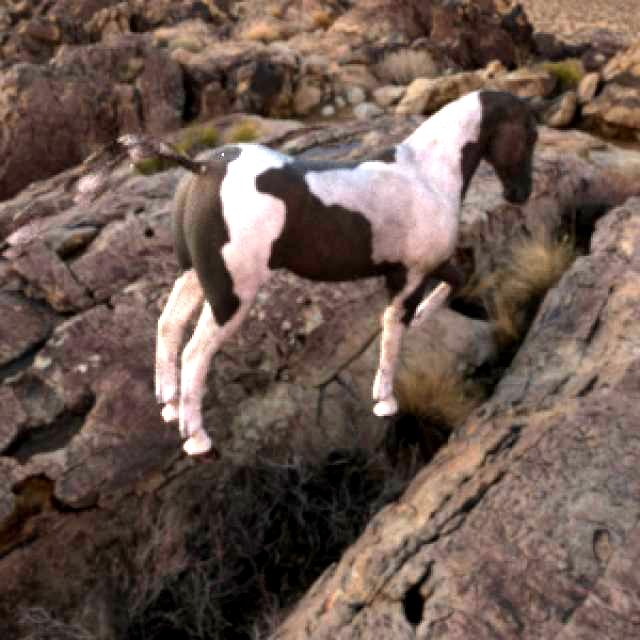horse: (77, 91, 538, 457)
